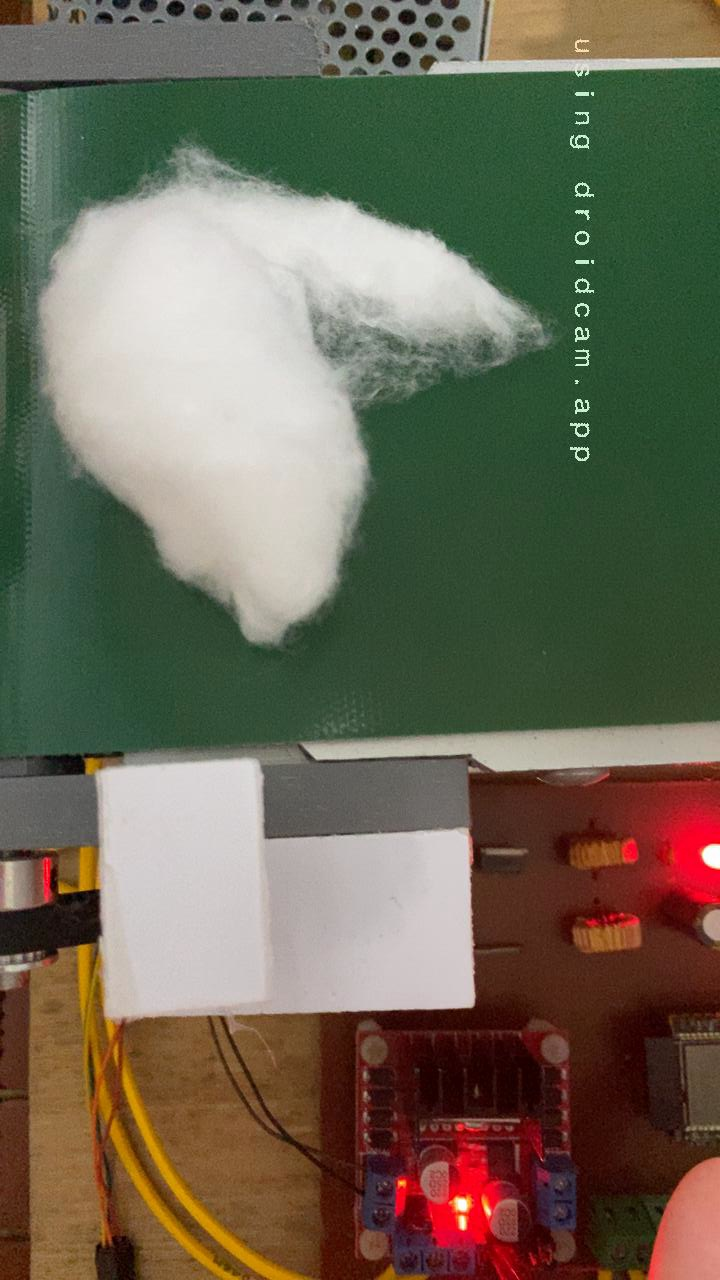cotton: (25, 142, 556, 654)
